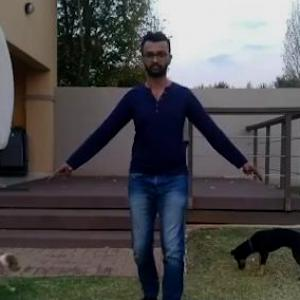land: (82, 49, 238, 295)
